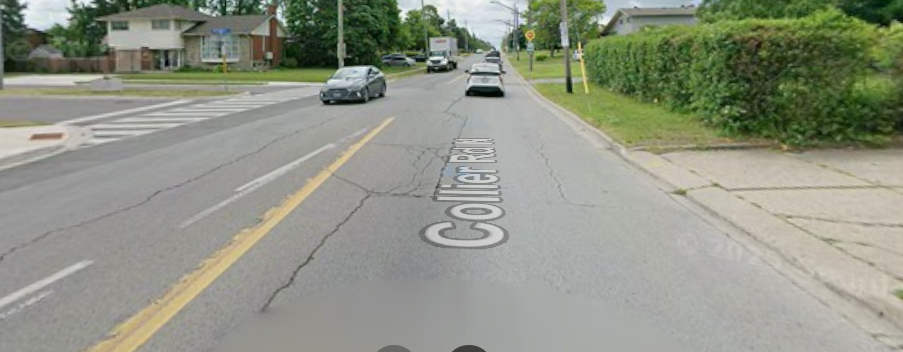cracks: (0, 157, 243, 263), (248, 187, 393, 316), (373, 110, 485, 206), (517, 135, 595, 208), (241, 118, 343, 156)
